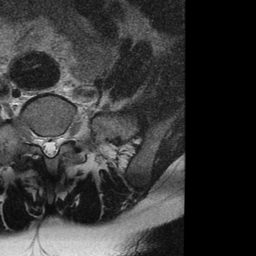CCS_normal: (46, 128, 54, 164)
LFS_normal: (59, 122, 68, 152)
LLS_normal: (54, 126, 61, 160)
RFS_normal: (31, 123, 40, 153)
RLS_normal: (40, 126, 46, 161)
